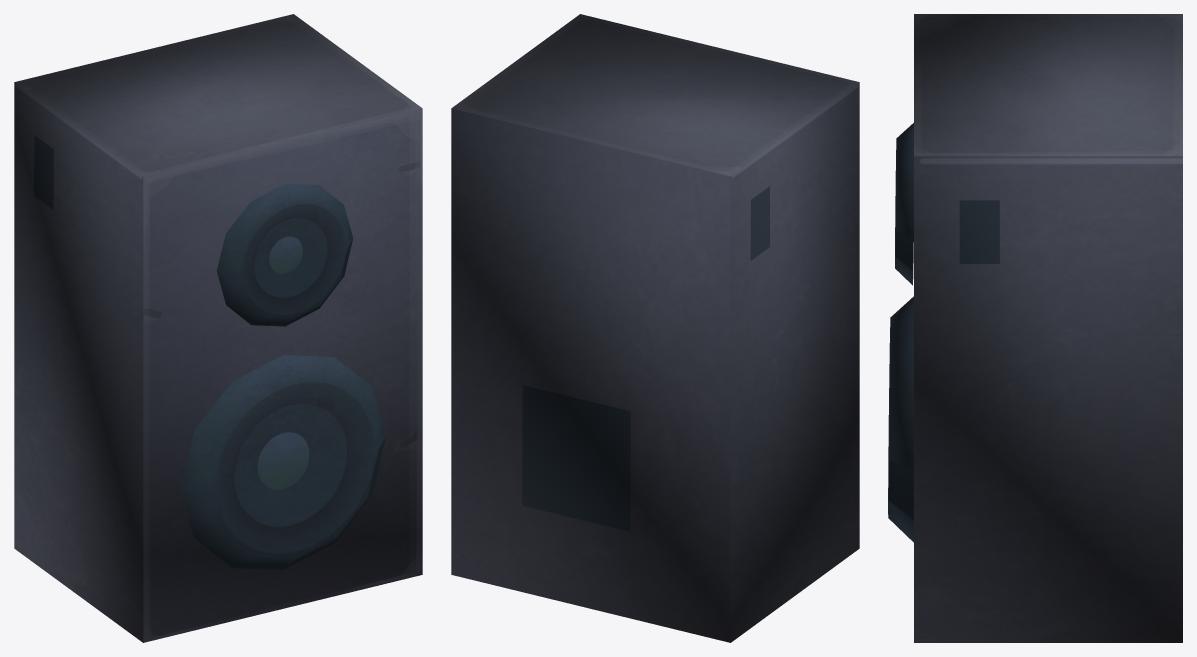
File: galactic_speaker_03.fbx
3 views of the same model, side by side, from view 1: azimuth 30°, elevation 25°; view 2: azimuth 150°, elevation 25°; view 3: azimuth 270°, elevation 25° (orthographic). The views are drawn at different scales.
Parts seen in each view (by area): view 1: speaker3; view 2: speaker3; view 3: speaker3.
Part boxes in pixels (x1,y1,x2,y2): speaker3: [14, 14, 422, 642]; speaker3: [451, 14, 859, 642]; speaker3: [888, 14, 1182, 642].
Size of the model in its own units: 0.01 by 0.016 by 0.00876.
